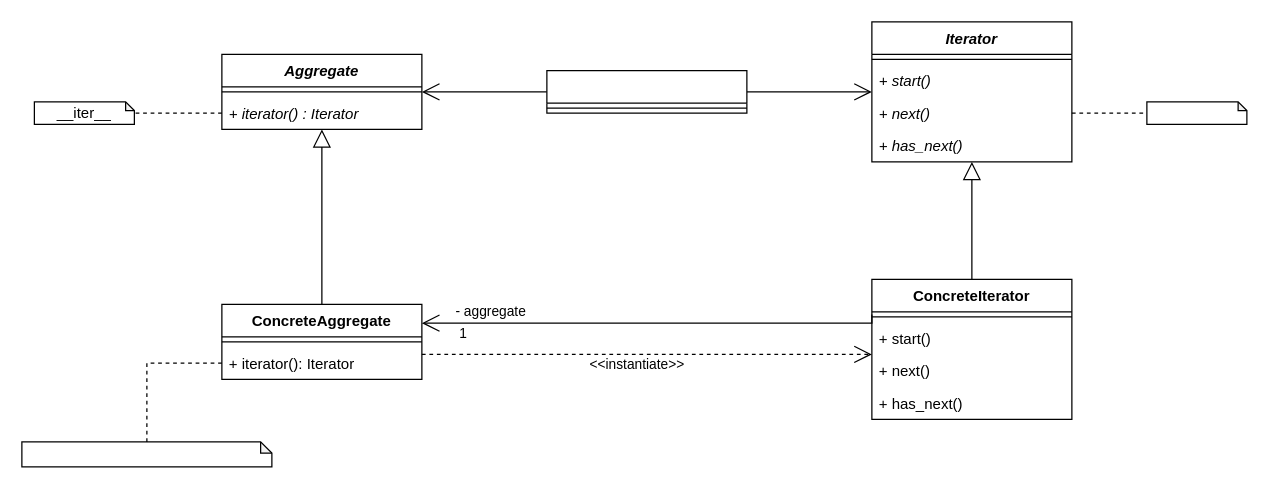
Image size: 1269x489. Some labels were removed from this diagram. Here are the shapes that lost their labels. From the top down, the centre of each, then its label:
At (x=646, y=91): "Client".
At (x=1196, y=112): "__next__".
At (x=146, y=454): "return ConcreteIterator(self)".
